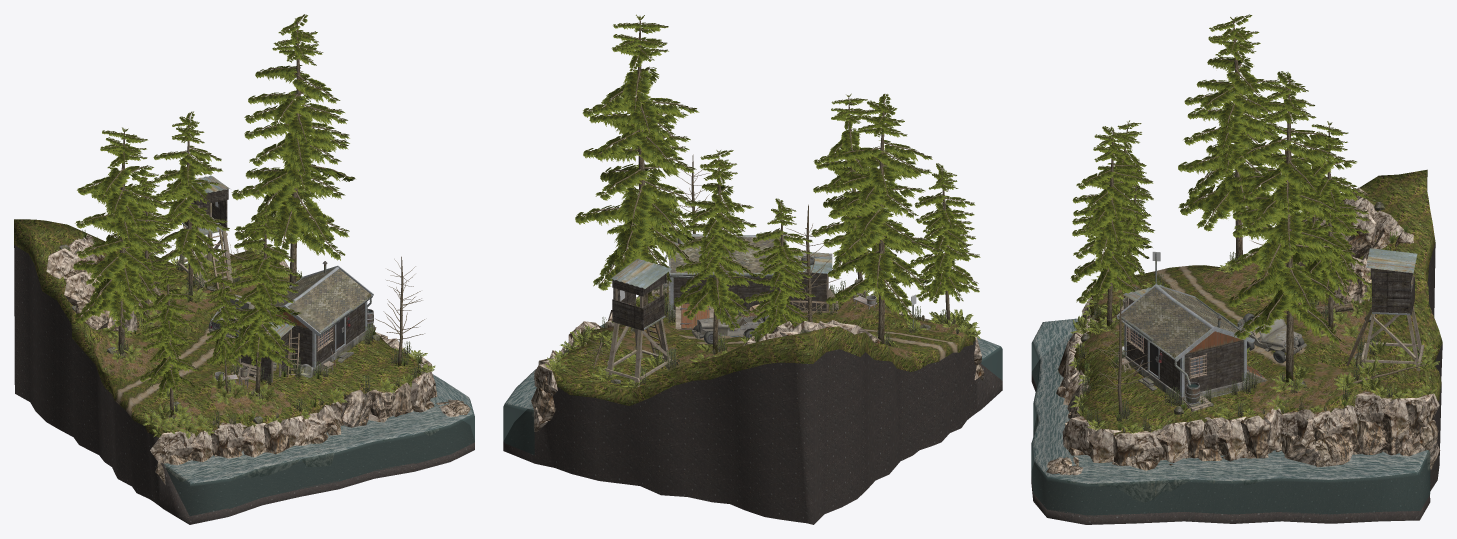
3 views of the same model, side by side, from view 1: azimuth 30°, elevation 25°; view 2: azimuth 150°, elevation 25°; view 3: azimuth 270°, elevation 25° (orthographic). The views are drawn at different scales.
Visible parts, largest first — view 1: GroundPlane, Water, tree6, Tree2, CliffRock, Tree, Tree3, Tree5, House_Roof, HillRock, Tree1, polySurface5 (+4 smaller); view 2: GroundPlane, tree6, Tree2, Tree3, Tree5, Tree4, polySurface5, Tree, Water, CliffRock, House_Roof, House_Walls (+5 smaller); view 3: GroundPlane, Water, CliffRock, tree6, Tree2, Tree, Tree3, polySurface5, House_Roof, House_Walls, HillRock, Tree5 (+7 smaller).
Part boxes in pixels (x1=…): GroundPlane: x1=14, y1=219, x2=474, y2=524; Water: x1=164, y1=374, x2=474, y2=516; tree6: x1=231, y1=14, x2=355, y2=285; Tree2: x1=73, y1=127, x2=170, y2=354; CliffRock: x1=150, y1=247, x2=440, y2=484; Tree: x1=219, y1=204, x2=301, y2=396; Tree3: x1=151, y1=111, x2=229, y2=295; Tree5: x1=140, y1=261, x2=199, y2=416; House_Roof: x1=266, y1=268, x2=371, y2=332; HillRock: x1=46, y1=234, x2=152, y2=332; Tree1: x1=205, y1=249, x2=242, y2=392; polySurface5: x1=176, y1=175, x2=232, y2=287; GroundPlane: x1=503, y1=272, x2=1002, y2=524; tree6: x1=575, y1=14, x2=699, y2=306; Tree2: x1=823, y1=94, x2=943, y2=343; Tree3: x1=674, y1=150, x2=760, y2=354; Tree5: x1=910, y1=163, x2=980, y2=324; Tree4: x1=745, y1=198, x2=815, y2=336; polySurface5: x1=604, y1=258, x2=672, y2=387; Tree: x1=811, y1=93, x2=896, y2=295; Water: x1=503, y1=296, x2=1002, y2=455; CliffRock: x1=531, y1=295, x2=984, y2=431; House_Roof: x1=670, y1=236, x2=784, y2=272; House_Walls: x1=673, y1=275, x2=779, y2=309; GroundPlane: x1=1031, y1=169, x2=1442, y2=524; Water: x1=1031, y1=318, x2=1430, y2=516; CliffRock: x1=1056, y1=297, x2=1440, y2=501; tree6: x1=1228, y1=71, x2=1355, y2=385; Tree2: x1=1178, y1=14, x2=1296, y2=265; Tree: x1=1070, y1=126, x2=1151, y2=328; Tree3: x1=1292, y1=121, x2=1371, y2=329; polySurface5: x1=1361, y1=248, x2=1424, y2=370; House_Roof: x1=1121, y1=286, x2=1247, y2=357; House_Walls: x1=1126, y1=327, x2=1243, y2=395; HillRock: x1=1285, y1=187, x2=1413, y2=304; Tree5: x1=1086, y1=120, x2=1154, y2=268.
Size of the model in its own units: 2132 by 2322 by 2102.
